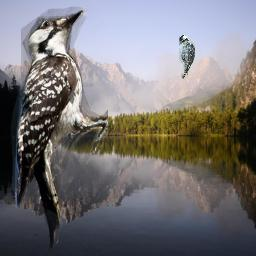Woodpecker: (8, 4, 108, 255), (179, 35, 195, 79)
